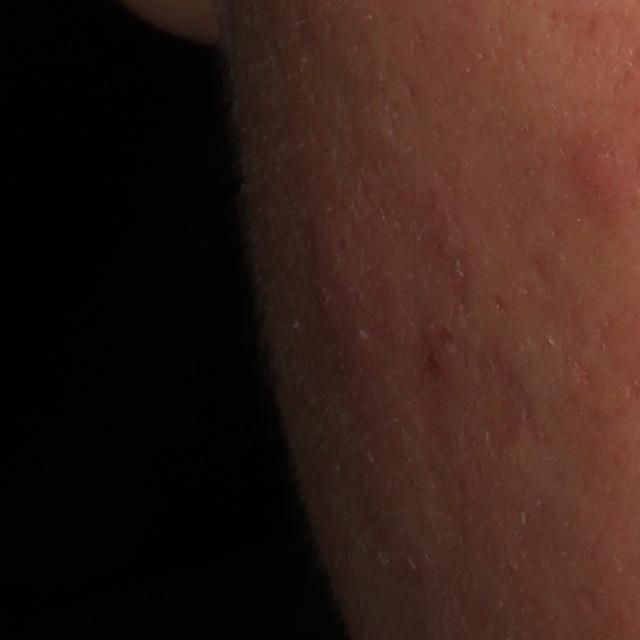papule: (572, 126, 639, 238)
